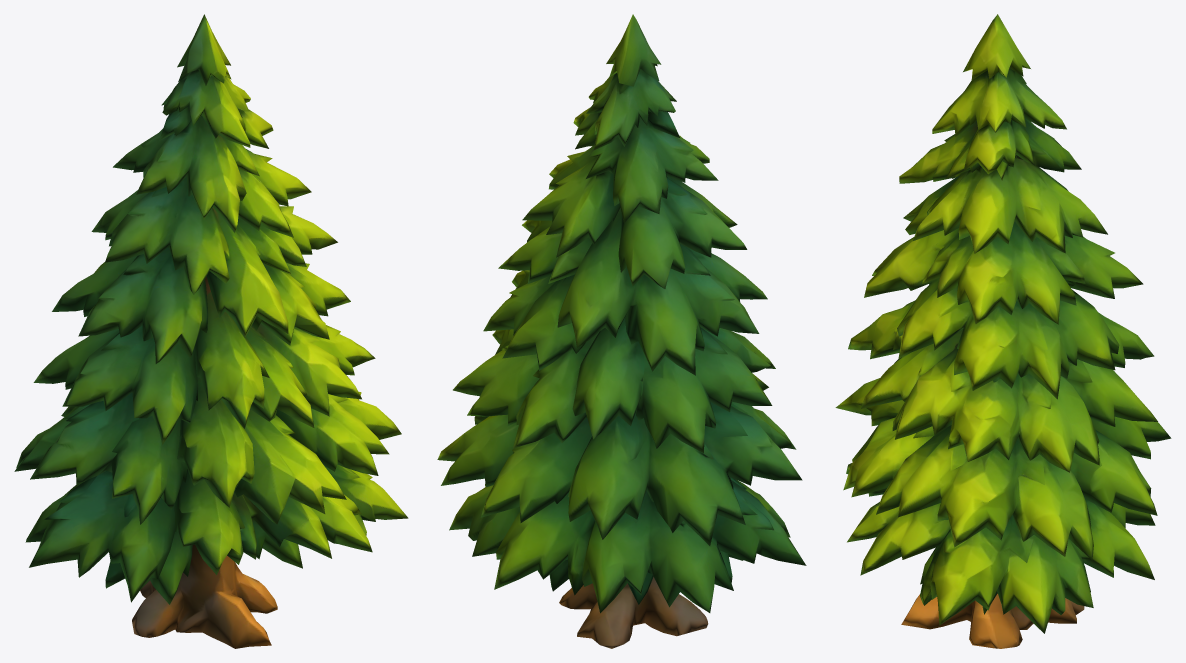
File: low poly tree model.glb
3 renders of one model, left to right at view 1: azimuth 30°, elevation 25°; view 2: azimuth 150°, elevation 25°; view 3: azimuth 270°, elevation 25°, orthographic.
Visible parts, largest first — view 1: tripo_node_ec28605b-afe1-4be2-9e33-cab4d3fc85b0; view 2: tripo_node_ec28605b-afe1-4be2-9e33-cab4d3fc85b0; view 3: tripo_node_ec28605b-afe1-4be2-9e33-cab4d3fc85b0.
Boxes of the visible parts, <box> form: tripo_node_ec28605b-afe1-4be2-9e33-cab4d3fc85b0: <box>14,14,408,648</box>; tripo_node_ec28605b-afe1-4be2-9e33-cab4d3fc85b0: <box>437,14,806,648</box>; tripo_node_ec28605b-afe1-4be2-9e33-cab4d3fc85b0: <box>835,14,1171,648</box>.
Size of the model in its own units: 0.6112 by 1 by 0.5063.
1 material, 1 textured.
